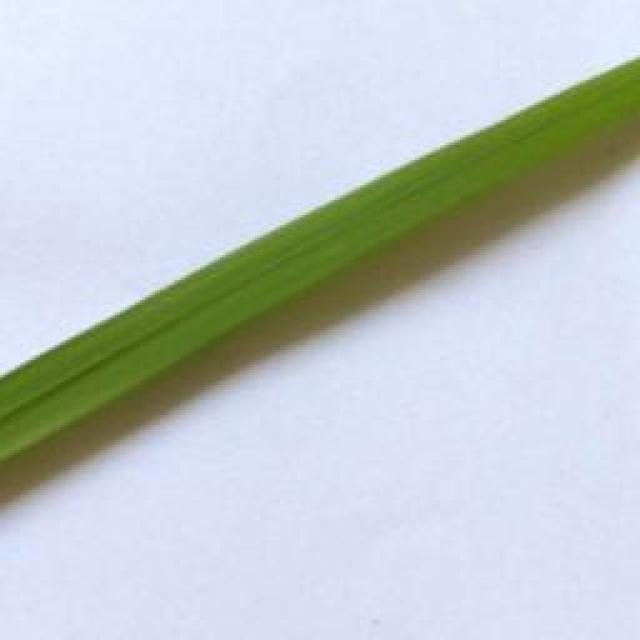Healthy-Plant: (0, 57, 640, 460)
